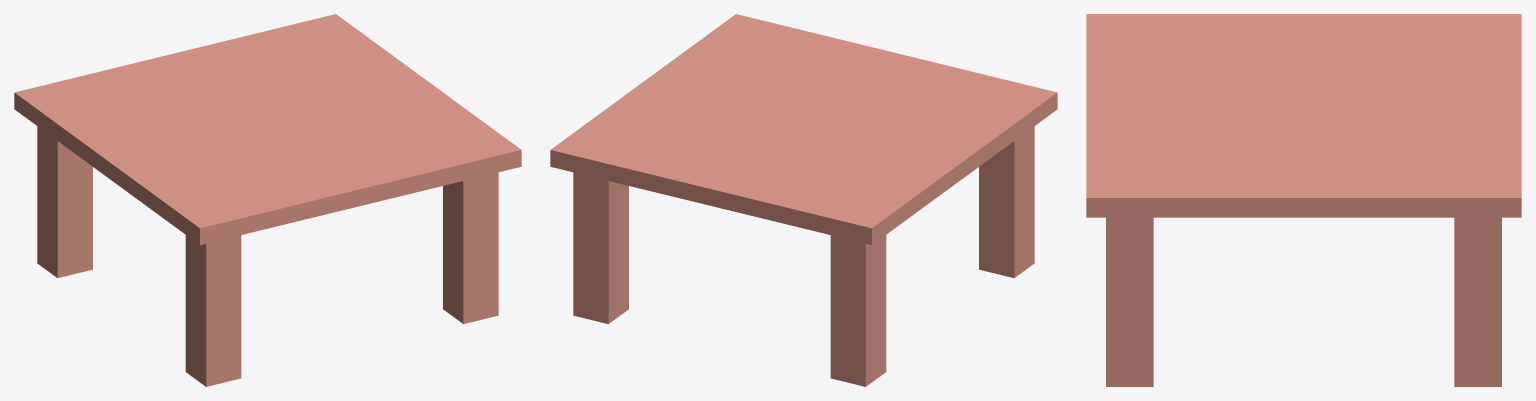
Rendered from table_02_mockup.fbx.
The picture shows the model from 3 angles, left to right: view 1: azimuth 30°, elevation 25°; view 2: azimuth 150°, elevation 25°; view 3: azimuth 270°, elevation 25°; orthographic projection. The views are drawn at different scales.
Parts seen in each view (by area): view 1: Plane.001; view 2: Plane.001; view 3: Plane.001.
Boxes of the visible parts, x1,y1,x2,y2 form: Plane.001: [14, 14, 521, 386]; Plane.001: [550, 14, 1057, 386]; Plane.001: [1086, 14, 1521, 386].
Size of the model in its own units: 1 by 1 by 0.5.
